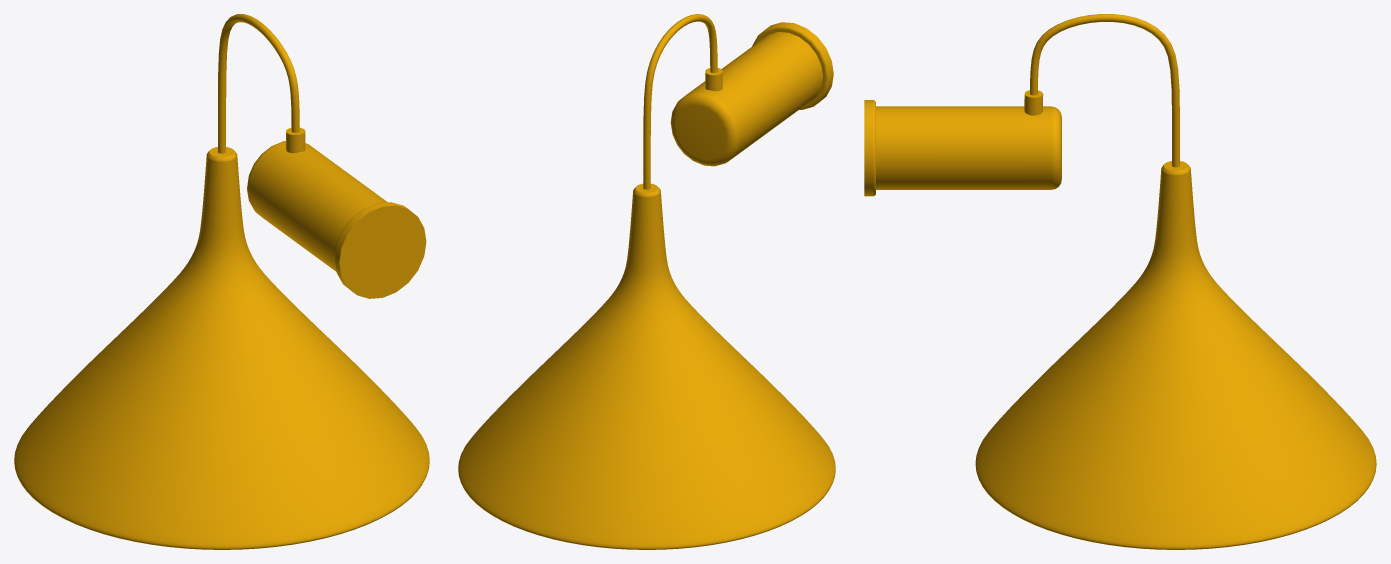
3 views of the same model, side by side, from view 1: azimuth 30°, elevation 25°; view 2: azimuth 150°, elevation 25°; view 3: azimuth 270°, elevation 25° (orthographic). The views are drawn at different scales.
Parts seen in each view (by area): view 1: pCylinder22; view 2: pCylinder22; view 3: pCylinder22.
Part boxes in pixels (bbox=[...]): pCylinder22: bbox=[14, 14, 429, 549]; pCylinder22: bbox=[458, 14, 835, 549]; pCylinder22: bbox=[864, 14, 1376, 549].
Bounding box in the file's own units: 37.68 × 46.89 × 48.12.
